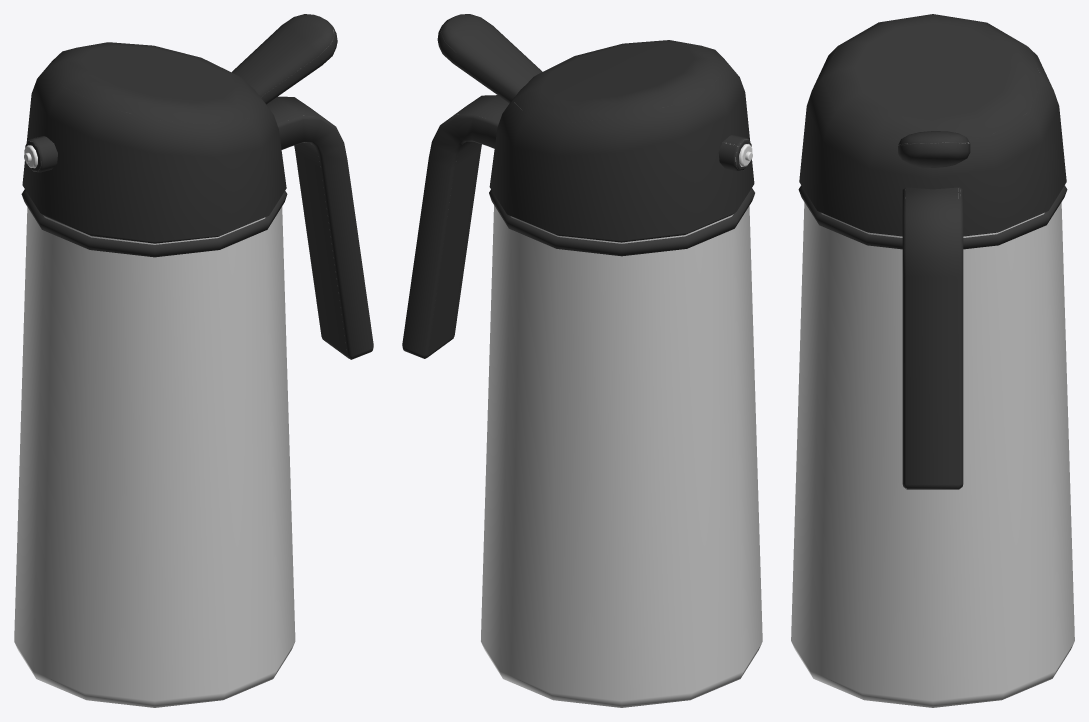
Rendered from Takoyaki_OilBottle.obj.
3 views of the same model, side by side, from view 1: azimuth 30°, elevation 25°; view 2: azimuth 150°, elevation 25°; view 3: azimuth 270°, elevation 25° (orthographic).
Parts seen in each view (by area): view 1: Takoyaki_OilBottle_Glass_OutSG, Takoyaki_OilBottle_TopSG, Takoyaki_OilBottle_HandleSG, Takoyaki_OilBottle_PumperSG, Takoyaki_OilBottle_ASG; view 2: Takoyaki_OilBottle_Glass_OutSG, Takoyaki_OilBottle_TopSG, Takoyaki_OilBottle_HandleSG, Takoyaki_OilBottle_PumperSG, Takoyaki_OilBottle_ASG; view 3: Takoyaki_OilBottle_Glass_OutSG, Takoyaki_OilBottle_TopSG, Takoyaki_OilBottle_HandleSG, Takoyaki_OilBottle_PumperSG.
Part boxes in pixels (box(x1,y1,x2,y2)): Takoyaki_OilBottle_Glass_OutSG: box(14, 206, 295, 707); Takoyaki_OilBottle_TopSG: box(21, 42, 287, 257); Takoyaki_OilBottle_HandleSG: box(266, 96, 373, 359); Takoyaki_OilBottle_PumperSG: box(231, 14, 337, 104); Takoyaki_OilBottle_ASG: box(25, 136, 57, 172); Takoyaki_OilBottle_Glass_OutSG: box(481, 205, 762, 707); Takoyaki_OilBottle_TopSG: box(489, 40, 754, 256); Takoyaki_OilBottle_HandleSG: box(402, 95, 509, 358); Takoyaki_OilBottle_PumperSG: box(437, 14, 542, 103); Takoyaki_OilBottle_ASG: box(718, 134, 751, 171); Takoyaki_OilBottle_Glass_OutSG: box(791, 202, 1074, 707); Takoyaki_OilBottle_TopSG: box(798, 14, 1067, 249); Takoyaki_OilBottle_HandleSG: box(902, 187, 963, 489); Takoyaki_OilBottle_PumperSG: box(898, 131, 970, 167).
Size of the model in its own units: 1.1 by 1.87 by 0.803.
9 materials, 9 textured.
